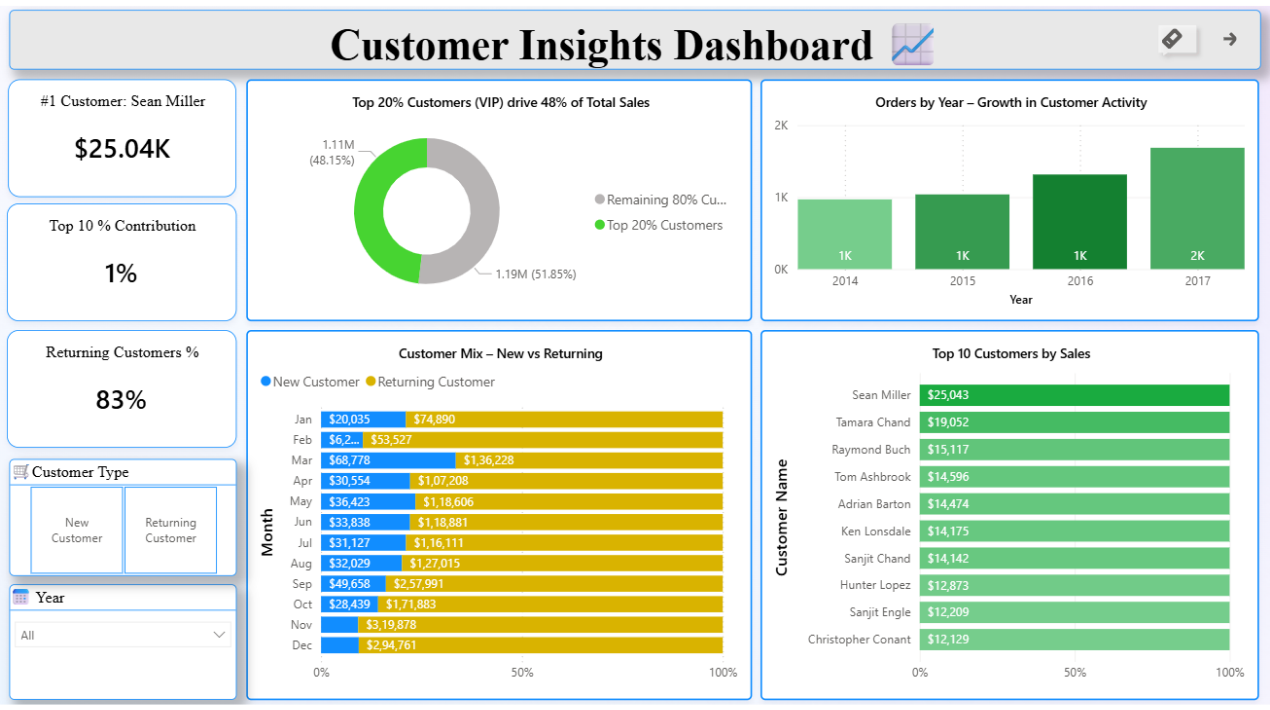

Layout of this report page (visuals, bound fields, positions):
{"tool":"powerbi","page":{"name":"Customer Insights Dashboard","canvas":[1280,720],"ordinal":3},"visuals":[{"type":"shape","title":" Customer Insights Dashboard 📈","box":[12.2,6.1,1259.5,60],"z":0},{"type":"donutChart","fields":{"Y":["Measures Table.ParetoValue"],"Category":["Pareto.Category"]},"box":[250.7,75.8,509,243.3],"z":1000},{"type":"hundredPercentStackedBarChart","title":" Customer Mix – New vs Returning","fields":{"Series":["Orders.Customer Type"],"Category":["Orders.Month"],"Y":["Measures Table.Sales"]},"box":[250.7,327.7,508.7,371.7],"z":2000},{"type":"clusteredColumnChart","title":" Orders by Year – Growth in Customer Activity","fields":{"Category":["Date.Year"],"Y":["Measures Table.Order Count"]},"box":[767.9,75.8,501.4,243.3],"z":3000},{"type":"hundredPercentStackedBarChart","title":" Top 10 Customers by Sales","fields":{"Y":["Measures Table.Sales"],"Category":["Customers.Customer Name"]},"box":[767.9,327.7,501.4,371.7],"z":4000},{"type":"slicer","title":"📅 Year","fields":{"Values":["Date.Year"]},"box":[12.2,583.3,229,116.2],"z":5000},{"type":"slicer","title":"🛒Customer Type","fields":{"Values":["Orders.Customer Type"]},"box":[12.2,457.3,228.7,117.4],"z":6000},{"type":"card","fields":{"Values":["Measures Table.Top Customer Sales"]},"box":[11,75.8,229.9,118.6],"z":7000},{"type":"card","title":" Top 10 % Contribution","fields":{"Values":["Measures Table.Top 10 % Contribution"]},"box":[9.8,200.5,231.1,118.6],"z":8000},{"type":"card","title":" Returning Customers %","fields":{"Values":["Measures Table.Returning %"]},"box":[9.8,327.7,231.1,118.6],"z":9000},{"type":"actionButton","box":[1159.2,12.2,56.3,48.9],"z":10000},{"type":"actionButton","box":[1215.5,11,55,48.9],"z":11000}]}

Visuals, with their boxes in screenshot pixels (x1, y1, x2, y2), scaled from the page's 1280x720 canvas onto the 1270x710 screenshot:
" Customer Insights Dashboard 📈" shape: 12/6/1262/65
donutChart - Measures Table.ParetoValue x Pareto.Category: 249/75/754/315
" Customer Mix – New vs Returning" hundredPercentStackedBarChart: 249/323/753/690
" Orders by Year – Growth in Customer Activity" clusteredColumnChart: 762/75/1259/315
" Top 10 Customers by Sales" hundredPercentStackedBarChart: 762/323/1259/690
"📅 Year" slicer: 12/575/239/690
"🛒Customer Type" slicer: 12/451/239/567
card - Measures Table.Top Customer Sales: 11/75/239/192
" Top 10 % Contribution" card: 10/198/239/315
" Returning Customers %" card: 10/323/239/440
actionButton: 1150/12/1206/60
actionButton: 1206/11/1261/59
